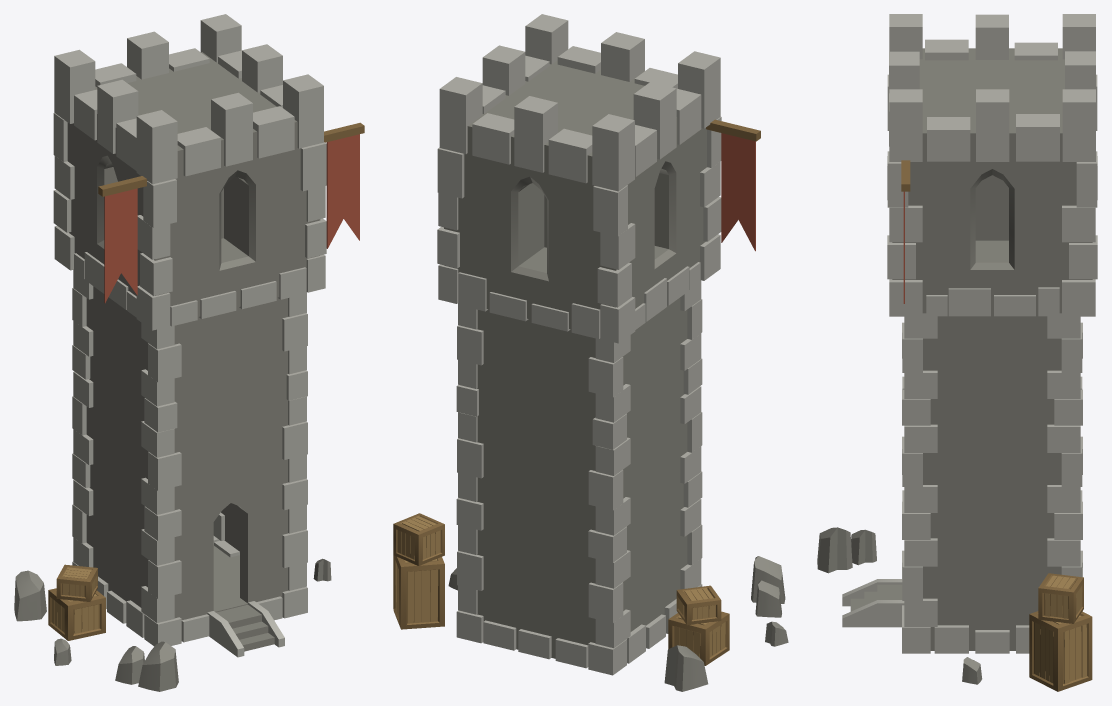
File: quaternius-ultimate-fantasy-rts-watchtower-secondage-level-2.glb
The picture shows the model from 3 angles, left to right: view 1: azimuth 30°, elevation 25°; view 2: azimuth 150°, elevation 25°; view 3: azimuth 270°, elevation 25°; orthographic projection. The views are drawn at different scales.
Visible parts, largest first — view 1: WatchTower_SecondAge_Level2; view 2: WatchTower_SecondAge_Level2; view 3: WatchTower_SecondAge_Level2.
Part boxes in pixels (x1,y1,x2,y2): WatchTower_SecondAge_Level2: (14,14,364,691); WatchTower_SecondAge_Level2: (393,14,788,691); WatchTower_SecondAge_Level2: (817,14,1097,691).
Size of the model in its own units: 0.8383 by 1.36 by 0.6138.
1 material, 1 textured.
